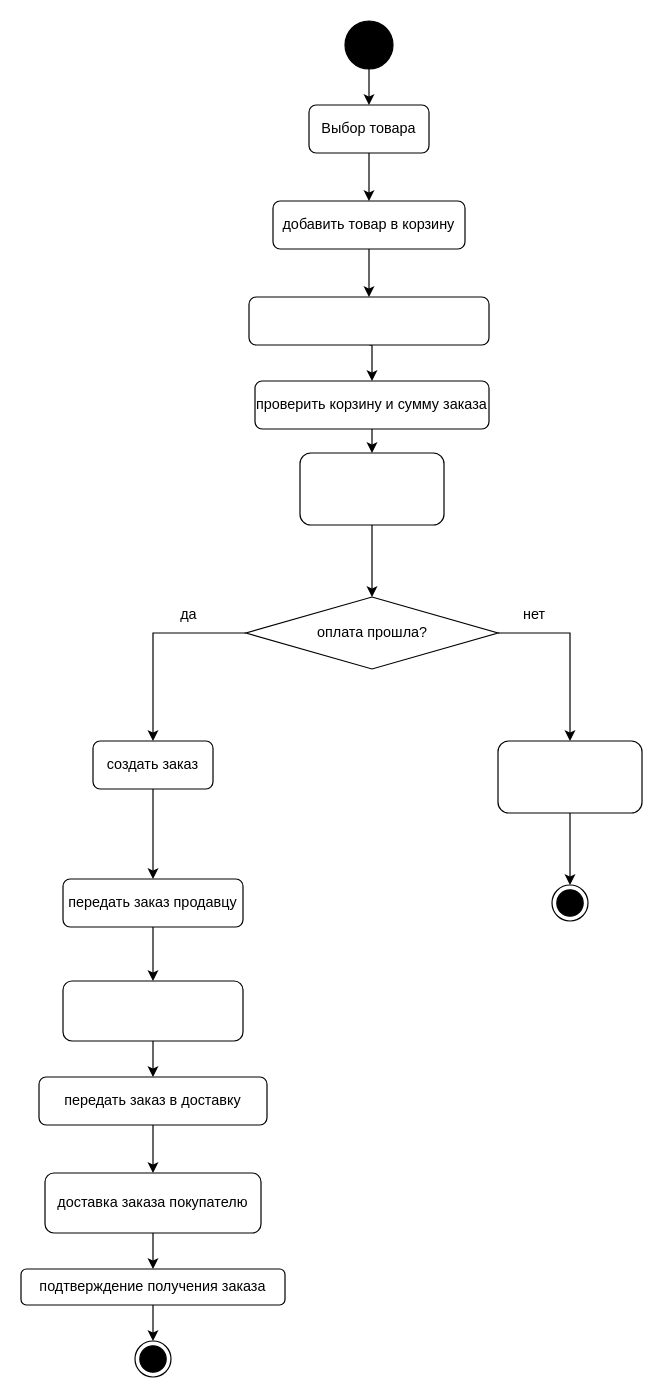
Some shapes in this 664 by 1398 pixel diagram are drawn without their labels. Here are the shapes that lost their labels. From the top down, the centre of each, then its label:
At [368,320]: "оформить заказ (указать контакты и адрес)".
At [371,488]: "инициировать оплату".
At [569,776]: "показать сообщение об ошибке оплаты".
At [152,1010]: "сборка и упаковка заказа".
